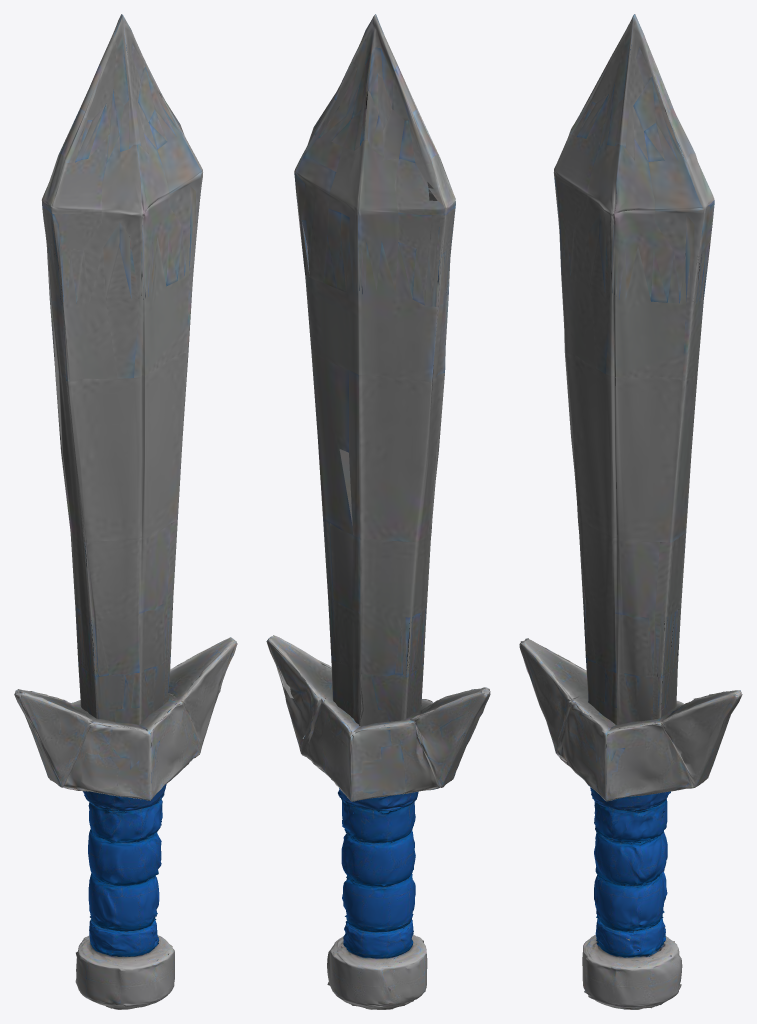
The model's file is sword.glb.
3 views of the same model, side by side, from view 1: azimuth 30°, elevation 25°; view 2: azimuth 150°, elevation 25°; view 3: azimuth 330°, elevation 25° (orthographic).
Visible parts, largest first — view 1: geometry_0; view 2: geometry_0; view 3: geometry_0.
Part boxes in pixels (left/top/right/bottom): geometry_0: left=14, top=14, right=237, bottom=1009; geometry_0: left=266, top=14, right=490, bottom=1009; geometry_0: left=519, top=14, right=742, bottom=1009.
Bounding box in the file's own units: 0.2231 × 0.9498 × 0.0928.
1 material, 1 textured.
